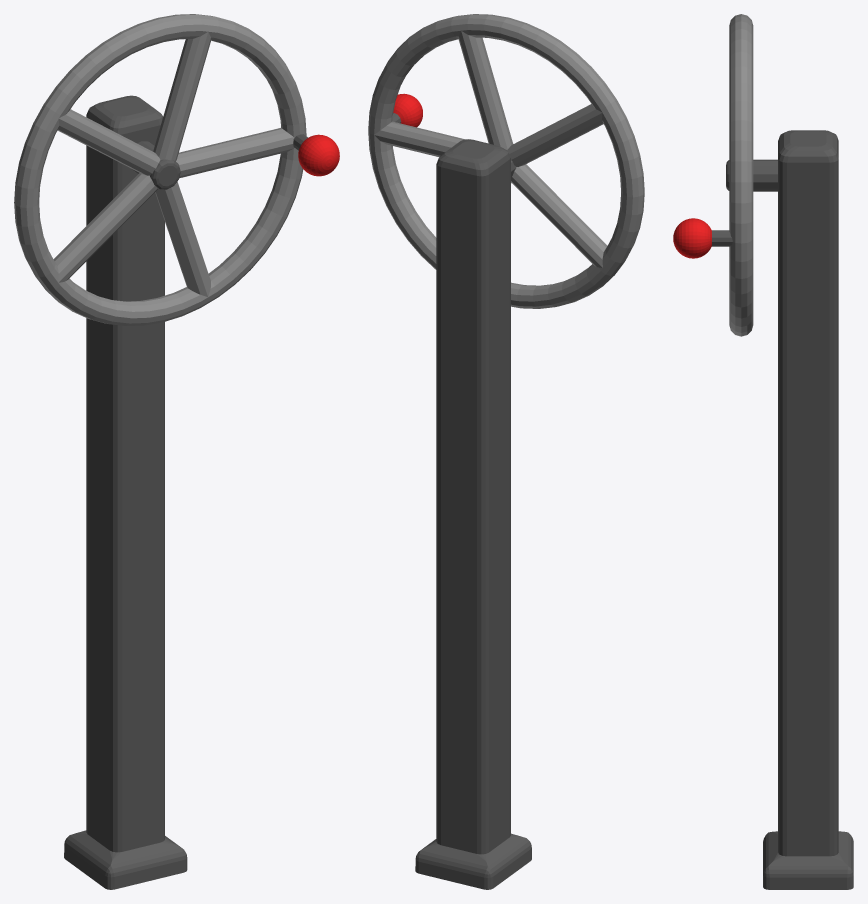
Rendered from MovingWheel.fbx.
The picture shows the model from 3 angles, left to right: view 1: azimuth 30°, elevation 25°; view 2: azimuth 150°, elevation 25°; view 3: azimuth 270°, elevation 25°; orthographic projection. The views are drawn at different scales.
Parts seen in each view (by area): view 1: Base, Wheel, Handle, ConnectionToWheel; view 2: Base, Wheel, Handle; view 3: Base, Wheel, Handle, ConnectionToWheel.
Boxes of the visible parts, x1,y1,x2,y2 form: Base: [64, 95, 187, 889]; Wheel: [14, 14, 306, 325]; Handle: [298, 134, 339, 176]; ConnectionToWheel: [131, 141, 180, 189]; Base: [415, 139, 531, 889]; Wheel: [368, 14, 644, 308]; Handle: [393, 93, 422, 127]; Base: [763, 130, 853, 889]; Wheel: [729, 14, 753, 336]; Handle: [673, 218, 711, 258]; ConnectionToWheel: [726, 159, 777, 191].
Size of the model in its own units: 41 by 115 by 22.37.
